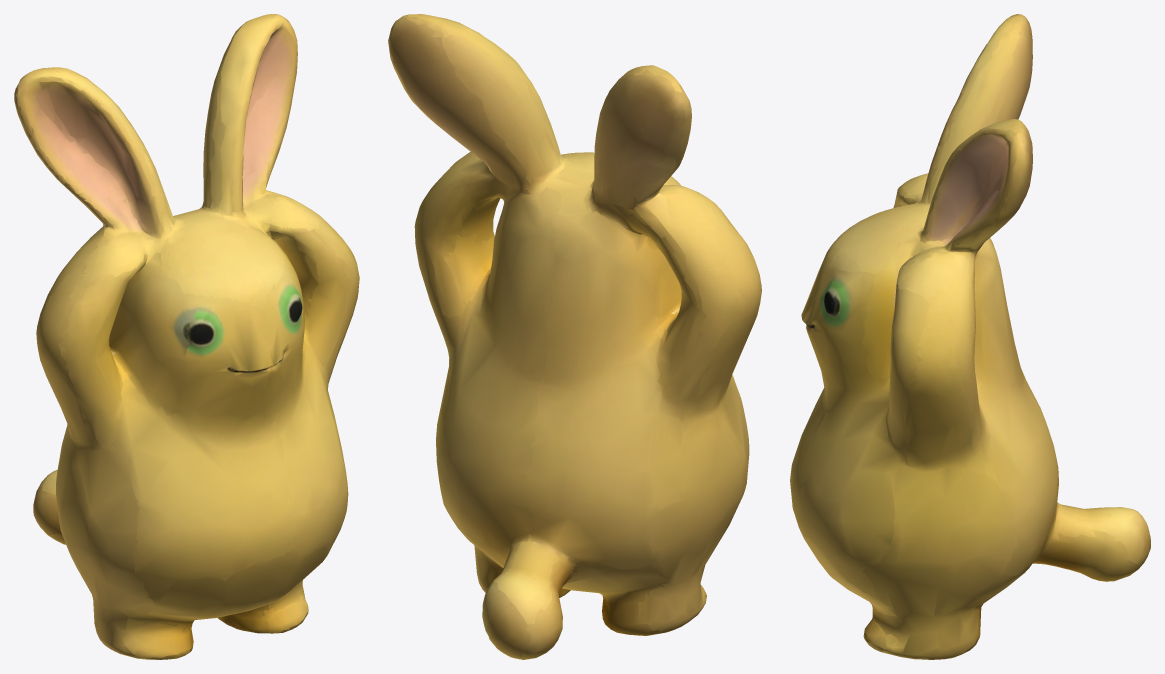
The model's file is naiwa_naitu_runtime.glb.
3 renders of one model, left to right at view 1: azimuth 30°, elevation 25°; view 2: azimuth 150°, elevation 25°; view 3: azimuth 270°, elevation 25°, orthographic. The views are drawn at different scales.
Parts seen in each view (by area): view 1: geometry_0; view 2: geometry_0; view 3: geometry_0.
Boxes of the visible parts, bbox=[...] form: geometry_0: bbox=[14, 14, 359, 659]; geometry_0: bbox=[388, 14, 761, 659]; geometry_0: bbox=[790, 14, 1150, 659].
Size of the model in its own units: 0.0526 by 0.09 by 0.0536.
1 material, 1 textured.
